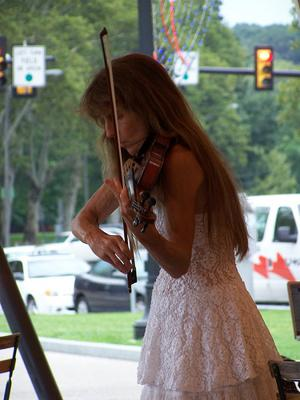person: (71, 54, 285, 400)
